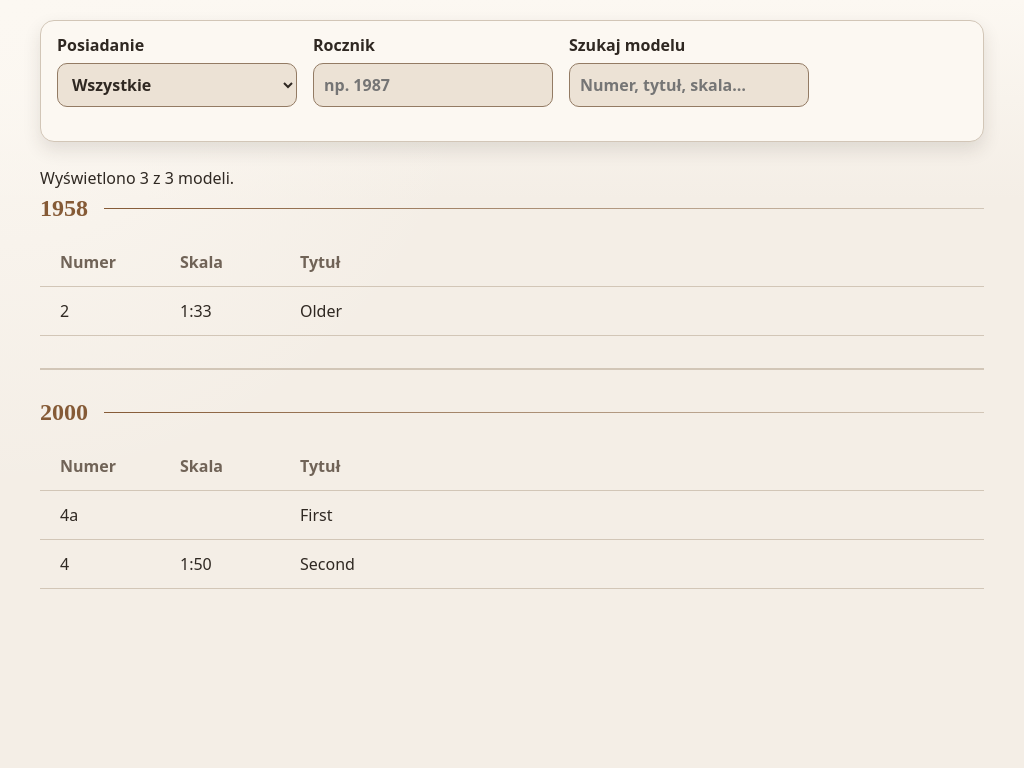
Scenario: Models page › combines ownership with a complete year and sanitizes the year input
Select "Posiadane" in the dropdown labelled "Posiadanie" at (177, 85), box [57,63,297,107]
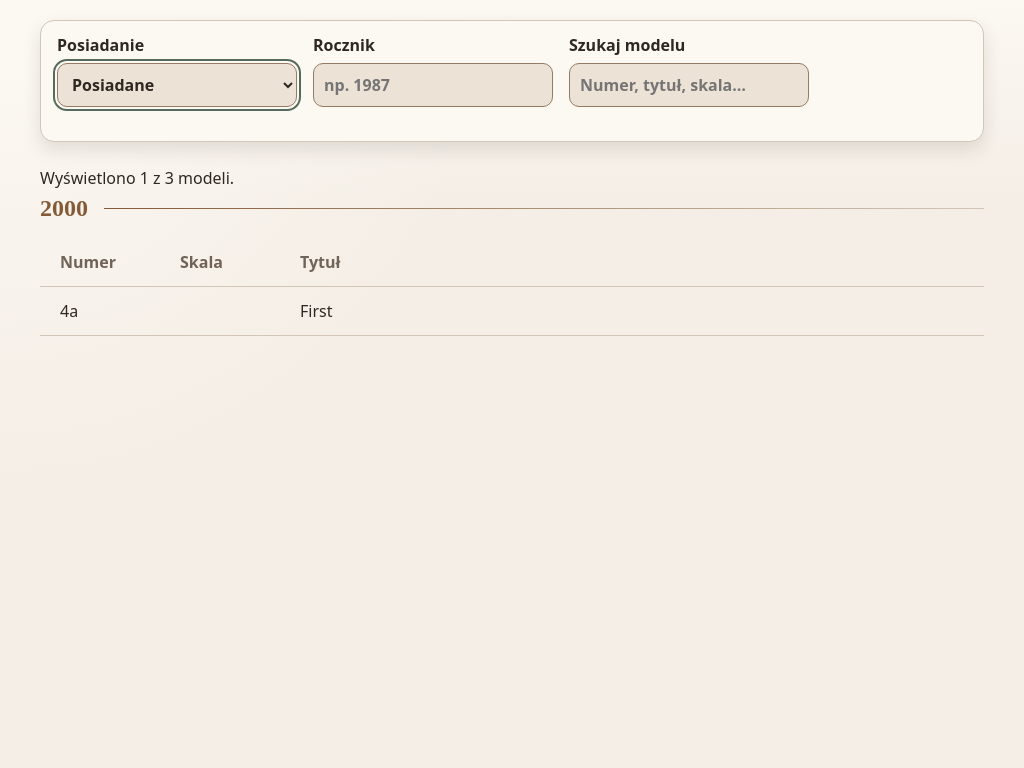
Now the text "Older" is gone
Now the text "Second" is gone
Select "Nieposiadane" in the dropdown labelled "Posiadanie" at (177, 85), box [57,63,297,107]
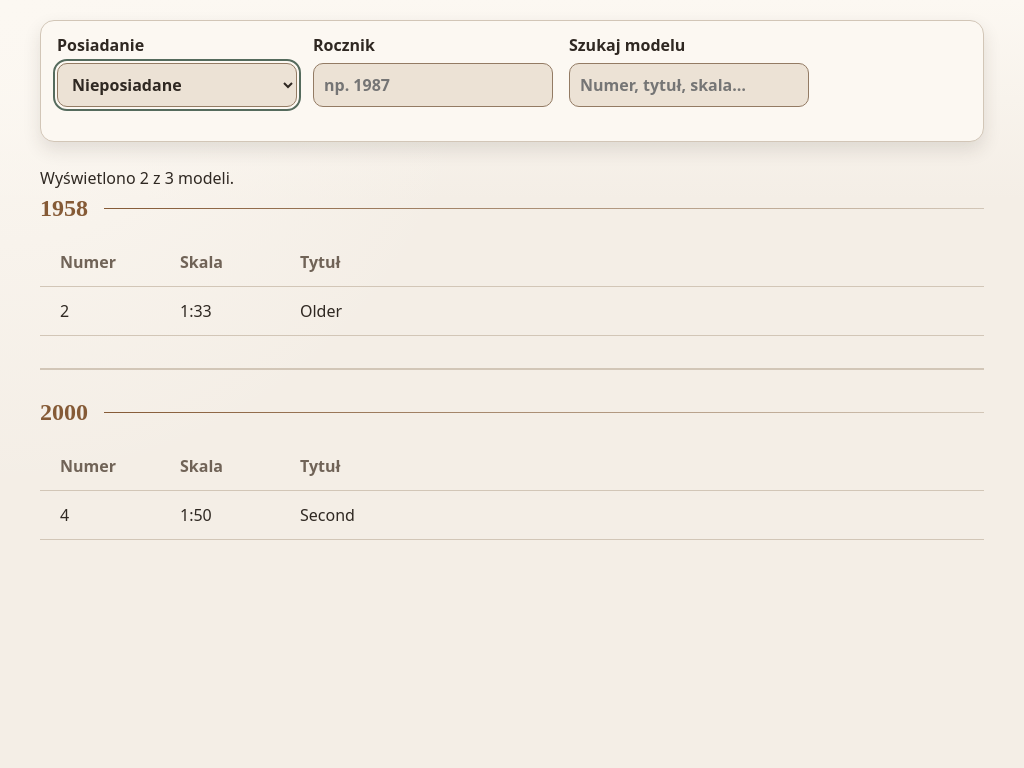
Now the text "First" is gone
Type "200" into the field labelled "Rocznik".
click(433, 85); type("200")  # box [313,63,553,107]
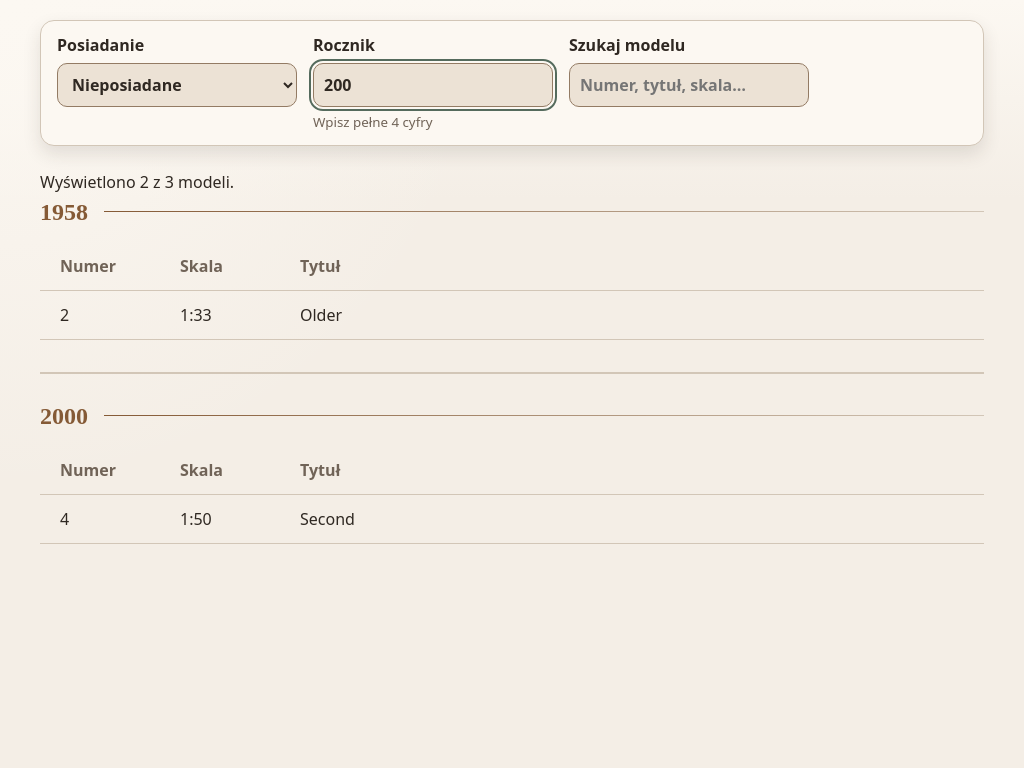
Now the text "Older" is shown, box [280,290,984,340]
Type "0" into the field labelled "Rocznik".
click(433, 85); type("0")  # box [313,63,553,107]
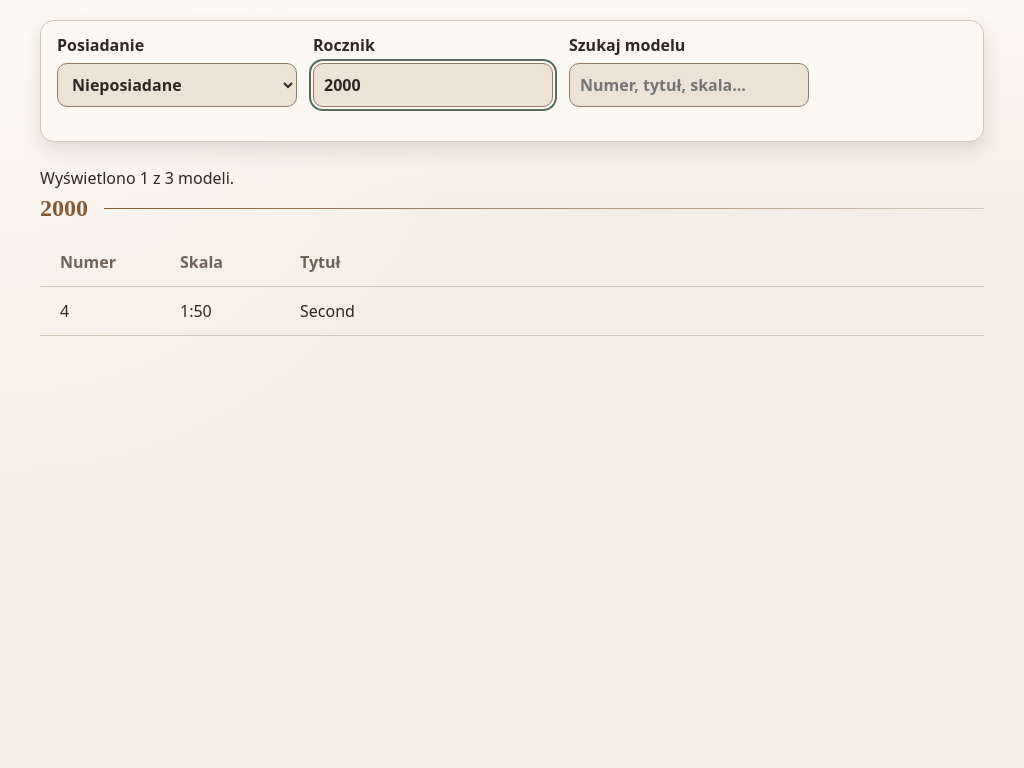
Now the text "Second" is shown, box [280,286,984,336]
Now the text "Older" is gone
Replace the text in the field labelled "Rocznik" with "ab1958x9" at (433, 85), box [313,63,553,107]
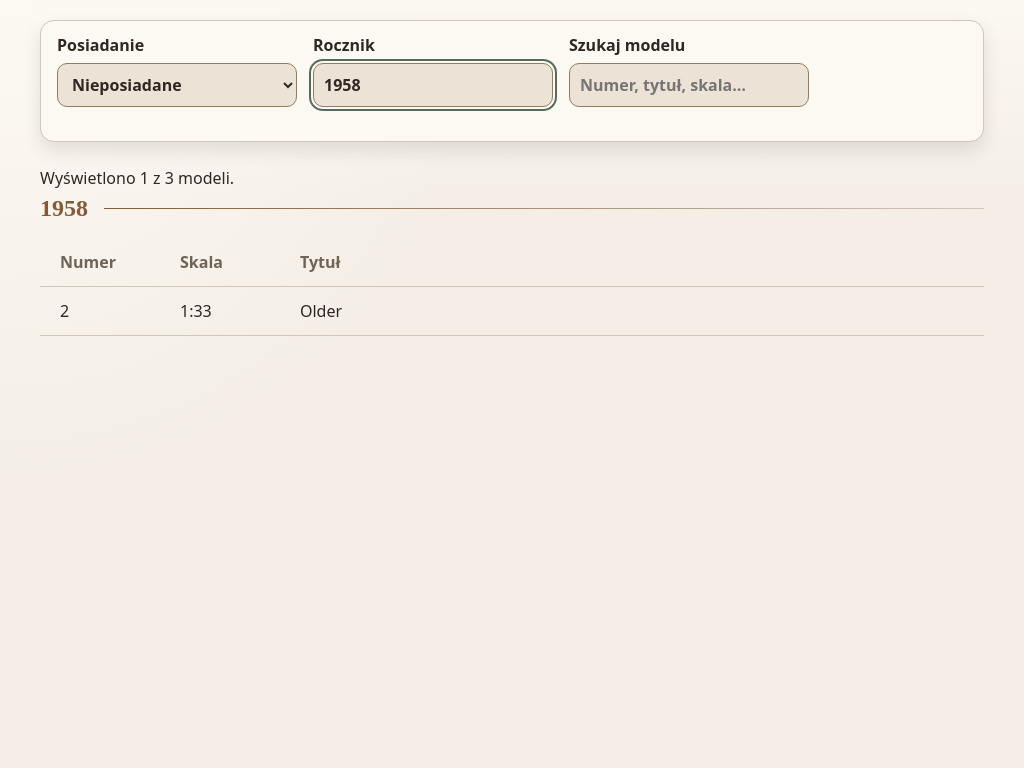
Now the text "Older" is shown, box [280,286,984,336]
Now the field labelled "Rocznik" holds "1958", box [313,63,553,107]
Select "Posiadane" in the dropdown labelled "Posiadanie" at (177, 85), box [57,63,297,107]
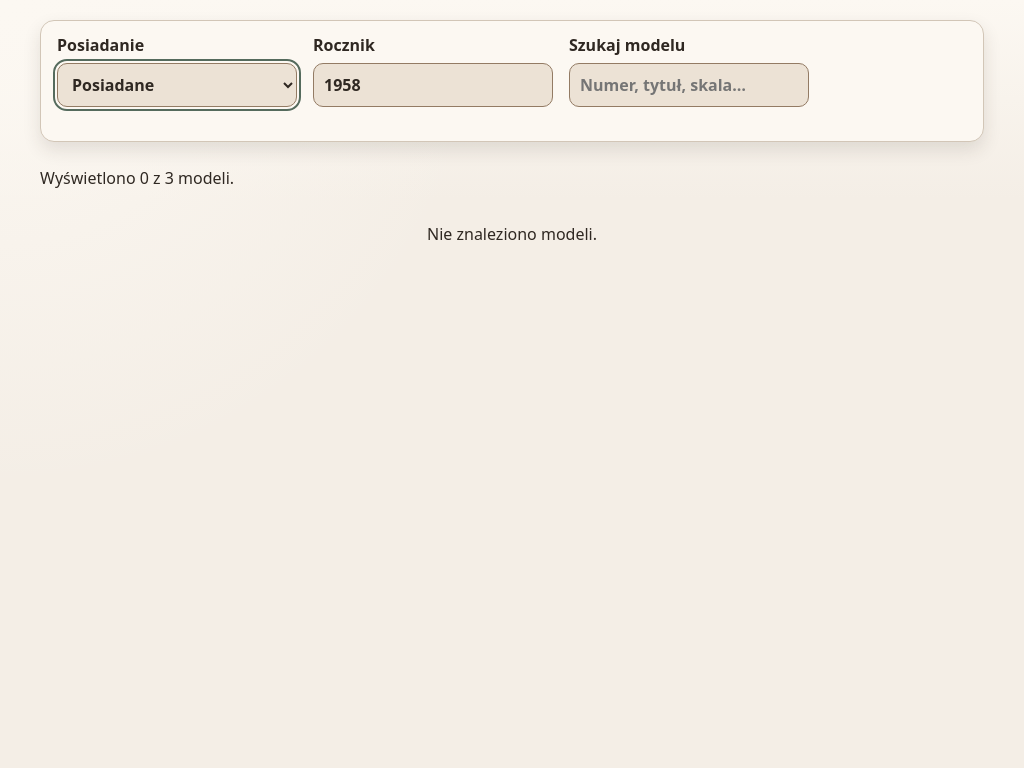
Now the text "Nie znaleziono modeli." is shown, box [427,223,597,245]
